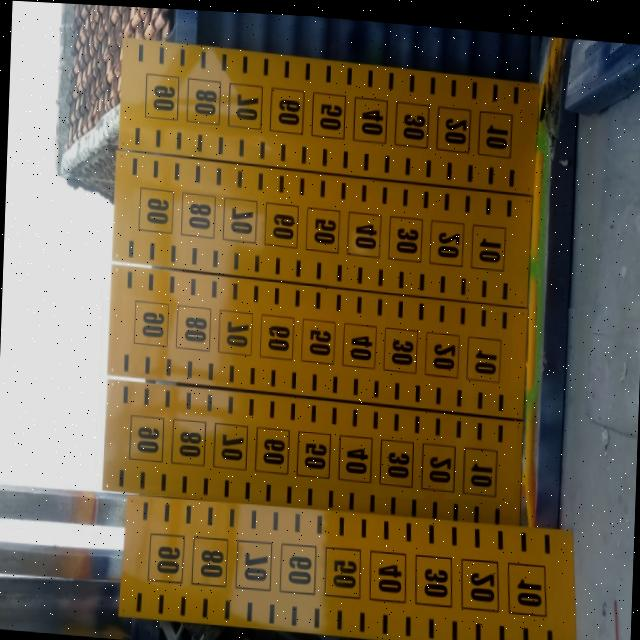water-meter: (82, 368, 534, 544), (104, 480, 587, 640), (88, 256, 532, 430), (98, 146, 548, 316), (107, 28, 545, 202)
